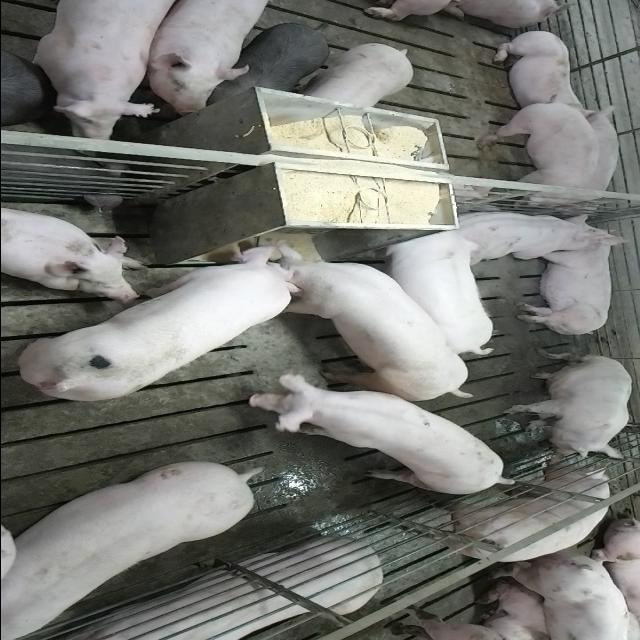Feeding: (14, 241, 300, 403), (254, 243, 480, 403)
Lateral_lying: (512, 214, 630, 338)
Sitting: (507, 349, 632, 459)
Standing: (242, 371, 520, 495), (22, 0, 176, 144), (413, 467, 617, 560), (476, 94, 600, 205), (151, 0, 268, 115), (200, 20, 336, 110), (297, 43, 419, 111)
Sternal_lying: (0, 459, 255, 638), (76, 534, 387, 638), (2, 209, 144, 303), (492, 30, 590, 114), (564, 101, 624, 195)
